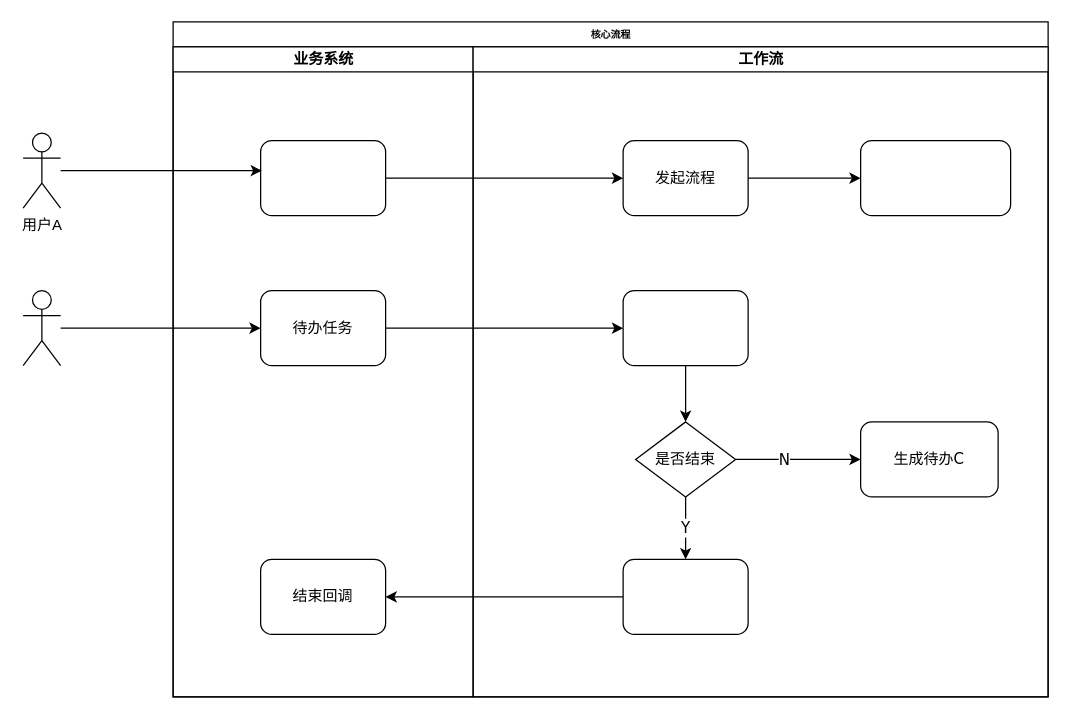
The diagram is 1070 pixels wide and 719 high, and some of its shapes have lost their labels. Here are the shapes that lost their labels. From the top down, the centre of each, then its label:
At (322,177): "业务表单".
At (935,177): "生成待办B".
At (41,327): "用户B".
At (685,327): "审批".
At (685,596): "流程结束".
